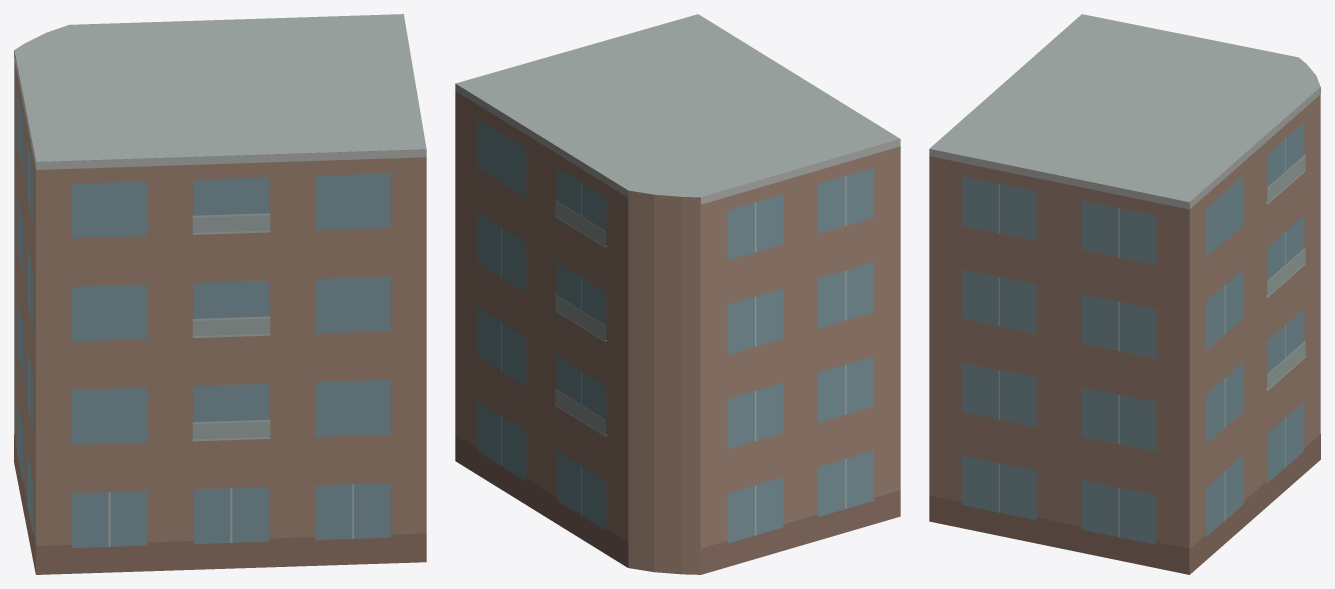
File: survey-upis-32976546.glb
The picture shows the model from 3 angles, left to right: view 1: azimuth 30°, elevation 25°; view 2: azimuth 150°, elevation 25°; view 3: azimuth 270°, elevation 25°; orthographic projection. The views are drawn at different scales.
Visible parts, largest first — view 1: survey-upis-32976546.tmp; view 2: survey-upis-32976546.tmp; view 3: survey-upis-32976546.tmp.
Part boxes in pixels (box(x1,y1,x2,y2)): survey-upis-32976546.tmp: box(14, 14, 426, 574); survey-upis-32976546.tmp: box(455, 14, 900, 574); survey-upis-32976546.tmp: box(929, 14, 1320, 574).
Size of the model in its own units: 13.55 by 12.5 by 11.91.
